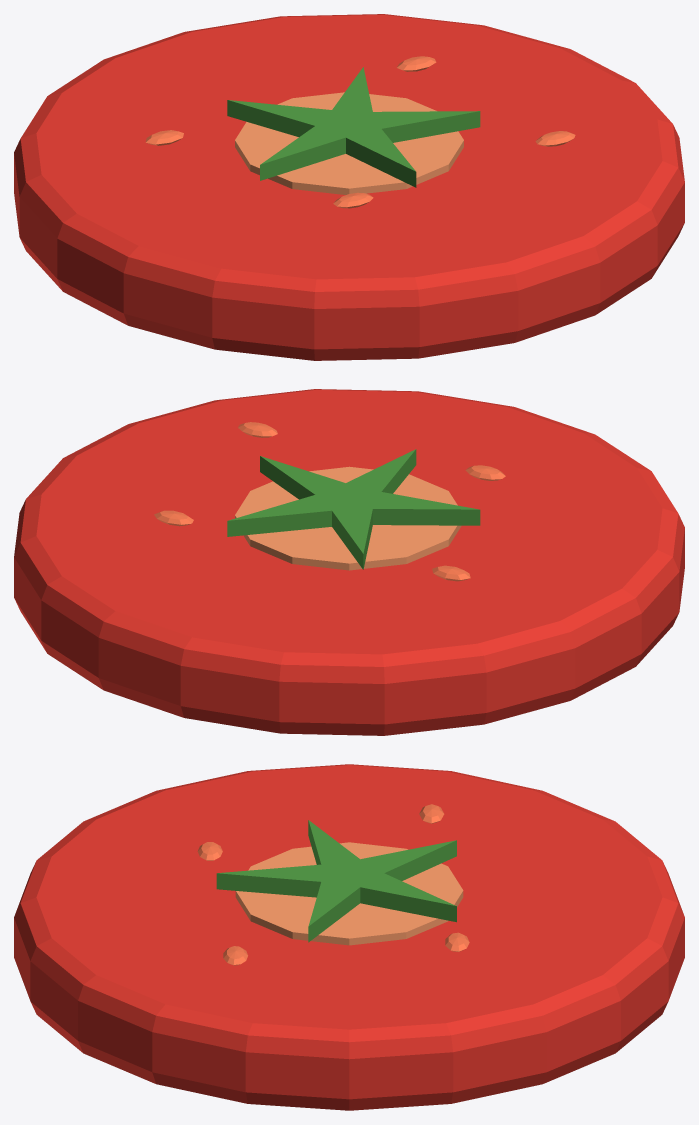
File: ingredient-tomato.glb
3 views of the same model, one above another, from view 1: azimuth 30°, elevation 25°; view 2: azimuth 150°, elevation 25°; view 3: azimuth 270°, elevation 25° (orthographic).
Visible parts, largest first — view 1: IngredientTomato, TomatoCalyx, TomatoFlesh; view 2: IngredientTomato, TomatoCalyx, TomatoFlesh; view 3: IngredientTomato, TomatoCalyx, TomatoFlesh.
Part boxes in pixels (box(x1,y1,x2,y2)): IngredientTomato: box(14, 14, 684, 360); TomatoCalyx: box(227, 67, 480, 187); TomatoFlesh: box(235, 92, 463, 194); IngredientTomato: box(14, 389, 684, 735); TomatoCalyx: box(227, 449, 480, 569); TomatoFlesh: box(235, 466, 461, 570); IngredientTomato: box(14, 764, 684, 1110); TomatoCalyx: box(216, 820, 456, 942); TomatoFlesh: box(235, 842, 463, 945).
Size of the model in its own units: 1.06 by 0.182 by 1.06.
